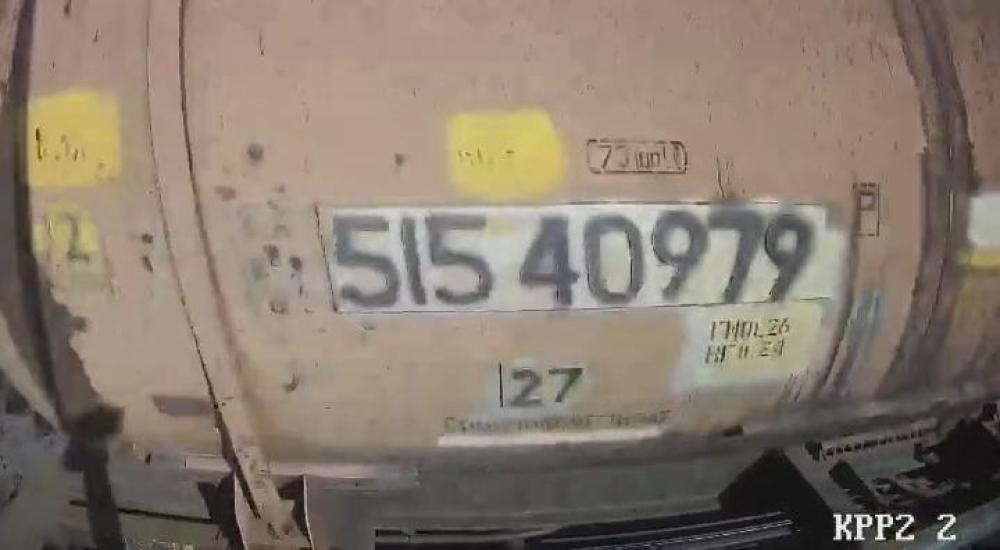Wagon-number: (322, 204, 820, 314)
